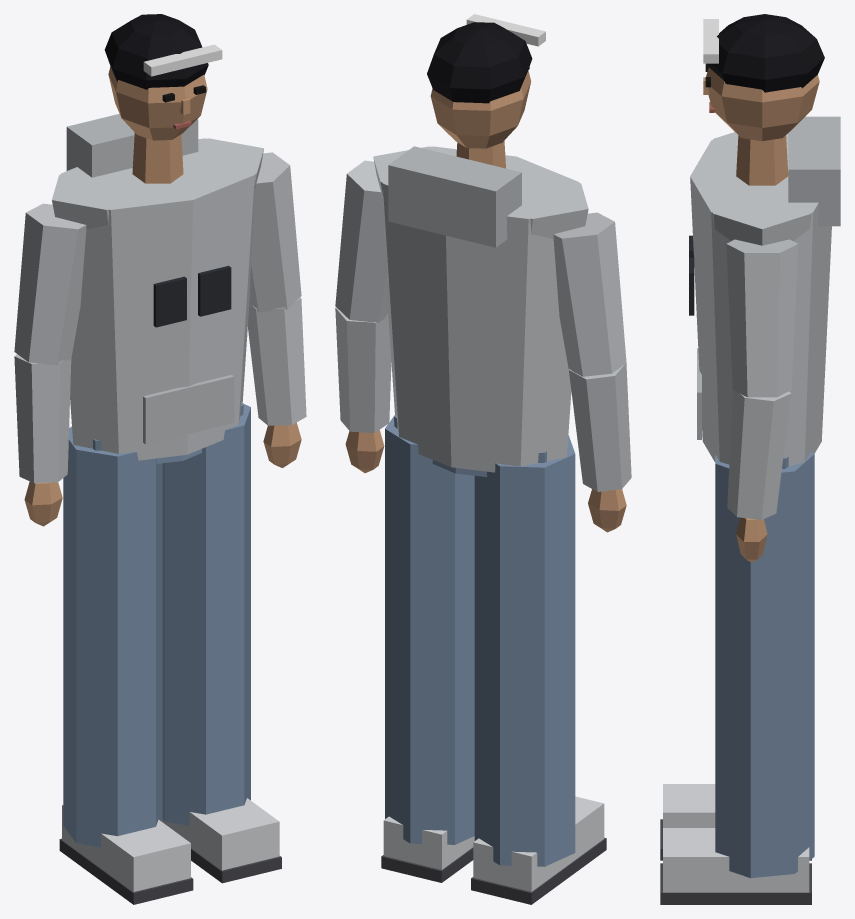
Rendered from 01-subway-guy.glb.
The picture shows the model from 3 angles, left to right: view 1: azimuth 30°, elevation 25°; view 2: azimuth 150°, elevation 25°; view 3: azimuth 270°, elevation 25°; orthographic projection. The views are drawn at different scales.
Visible parts, largest first — view 1: 01-subway-guy-hoodie, 01-subway-guy-baggy, 01-subway-guy-baggy.001, 01-subway-guy-upperarm, 01-subway-guy-upperarm.001, 01-subway-guy-forearm, 01-subway-guy-forearm.001, 01-subway-guy-sneaker, 01-subway-guy-beanie, 01-subway-guy-sneaker.001, 01-subway-guy-pocket, 01-subway-guy-hood (+10 smaller); view 2: 01-subway-guy-hoodie, 01-subway-guy-baggy, 01-subway-guy-baggy.001, 01-subway-guy-hood, 01-subway-guy-upperarm, 01-subway-guy-upperarm.001, 01-subway-guy-beanie, 01-subway-guy-forearm, 01-subway-guy-forearm.001, 01-subway-guy-sneaker, 01-subway-guy-head, 01-subway-guy-sneaker.001 (+7 smaller); view 3: 01-subway-guy-baggy.001, 01-subway-guy-hoodie, 01-subway-guy-upperarm.001, 01-subway-guy-beanie, 01-subway-guy-forearm.001, 01-subway-guy-sneaker.001, 01-subway-guy-hood, 01-subway-guy-head, 01-subway-guy-sneaker, 01-subway-guy-neck, 01-subway-guy-sole.001, 01-subway-guy-torso (+3 smaller).
Part boxes in pixels (left/top/right/bottom): 01-subway-guy-hoodie: left=56, top=138, right=259, bottom=460; 01-subway-guy-baggy: left=63, top=426, right=162, bottom=847; 01-subway-guy-baggy.001: left=162, top=403, right=250, bottom=825; 01-subway-guy-upperarm: left=14, top=203, right=86, bottom=365; 01-subway-guy-upperarm.001: left=249, top=152, right=301, bottom=312; 01-subway-guy-forearm: left=14, top=354, right=71, bottom=483; 01-subway-guy-forearm.001: left=248, top=297, right=306, bottom=425; 01-subway-guy-sneaker: left=62, top=804, right=190, bottom=891; 01-subway-guy-beanie: left=104, top=14, right=208, bottom=89; 01-subway-guy-sneaker.001: left=162, top=798, right=279, bottom=870; 01-subway-guy-pocket: left=143, top=375, right=234, bottom=444; 01-subway-guy-hood: left=66, top=114, right=198, bottom=177; 01-subway-guy-hoodie: left=378, top=146, right=583, bottom=472; 01-subway-guy-baggy: left=474, top=435, right=575, bottom=866; 01-subway-guy-baggy.001: left=385, top=415, right=474, bottom=844; 01-subway-guy-hood: left=388, top=146, right=521, bottom=247; 01-subway-guy-upperarm: left=553, top=212, right=626, bottom=376; 01-subway-guy-upperarm.001: left=335, top=160, right=388, bottom=322; 01-subway-guy-beanie: left=427, top=22, right=532, bottom=103; 01-subway-guy-forearm: left=569, top=363, right=631, bottom=491; 01-subway-guy-forearm.001: left=335, top=307, right=391, bottom=432; 01-subway-guy-sneaker: left=473, top=796, right=604, bottom=891; 01-subway-guy-head: left=430, top=70, right=531, bottom=148; 01-subway-guy-sneaker.001: left=383, top=816, right=474, bottom=869; 01-subway-guy-baggy.001: left=715, top=451, right=814, bottom=878; 01-subway-guy-hoodie: left=690, top=133, right=831, bottom=466; 01-subway-guy-upperarm.001: left=726, top=239, right=797, bottom=397; 01-subway-guy-beanie: left=707, top=14, right=824, bottom=92; 01-subway-guy-forearm.001: left=727, top=390, right=791, bottom=519; 01-subway-guy-sneaker.001: left=663, top=828, right=809, bottom=892; 01-subway-guy-hood: left=788, top=116, right=840, bottom=226; 01-subway-guy-head: left=706, top=67, right=819, bottom=141; 01-subway-guy-sneaker: left=663, top=784, right=715, bottom=827; 01-subway-guy-neck: left=736, top=135, right=788, bottom=185; 01-subway-guy-sole.001: left=660, top=863, right=811, bottom=904; 01-subway-guy-torso: left=713, top=132, right=811, bottom=245.
Size of the model in its own units: 0.6274 by 1.79 by 0.345.
